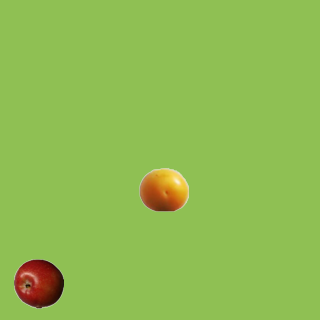Apple Braeburn: (13, 258, 63, 308)
Cherry Wax Yellow: (138, 164, 188, 214)
